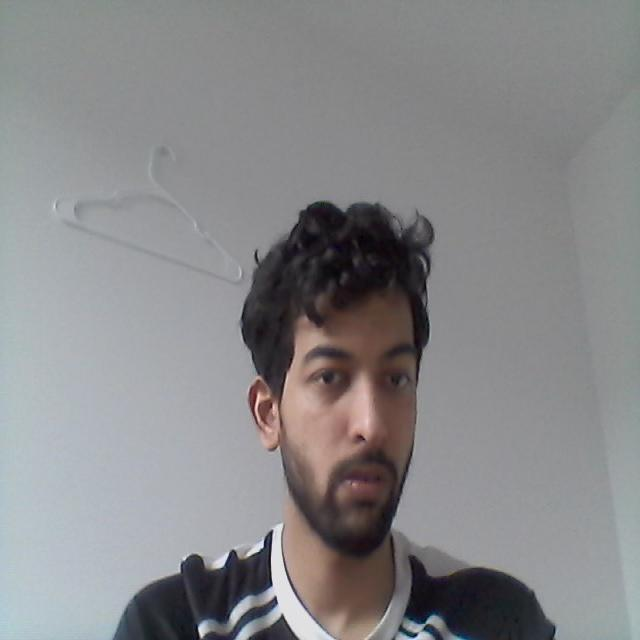nocap: (222, 173, 451, 416)
